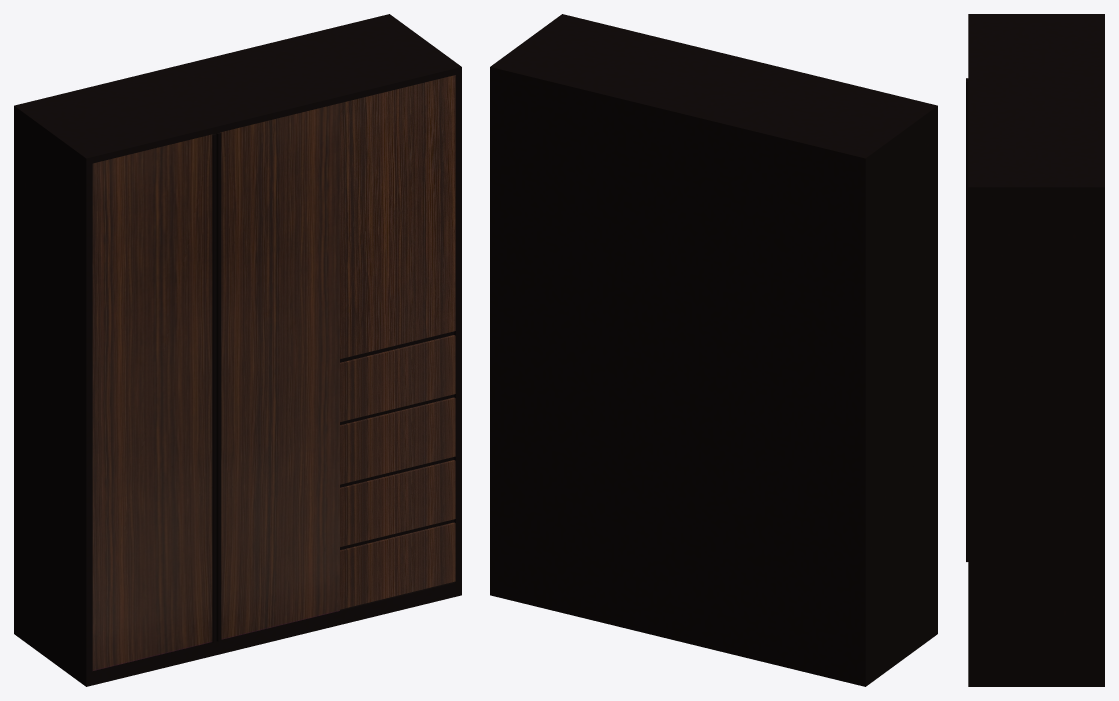
3 renders of one model, left to right at view 1: azimuth 30°, elevation 25°; view 2: azimuth 150°, elevation 25°; view 3: azimuth 270°, elevation 25°, orthographic. The views are drawn at different scales.
Visible parts, largest first — view 1: Tu ao_01 - Default_0; view 2: Tu ao_01 - Default_0; view 3: Tu ao_01 - Default_0.
Part boxes in pixels (left/top/right/bottom): Tu ao_01 - Default_0: left=14, top=14, right=461, bottom=686; Tu ao_01 - Default_0: left=490, top=14, right=937, bottom=686; Tu ao_01 - Default_0: left=966, top=14, right=1104, bottom=686.
Bounding box in the file's own units: 1.8 × 2.41 × 0.6084.
Materials: 1 (1 with a texture image).
